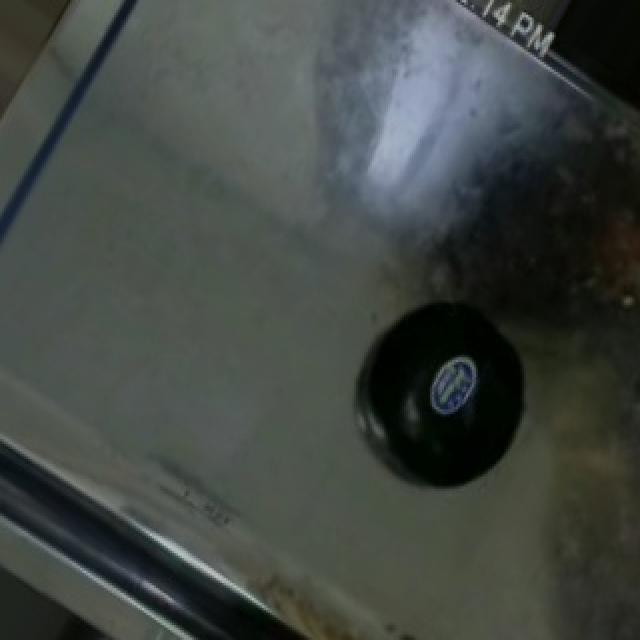Fruit: (336, 328, 556, 508), (538, 0, 640, 131)
